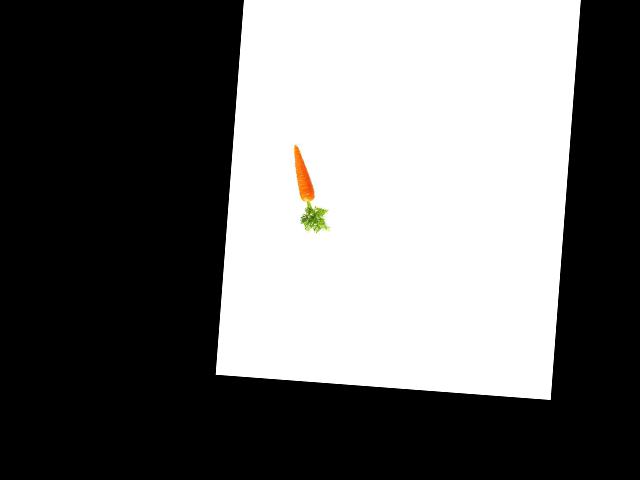carrot: (288, 141, 319, 204)
